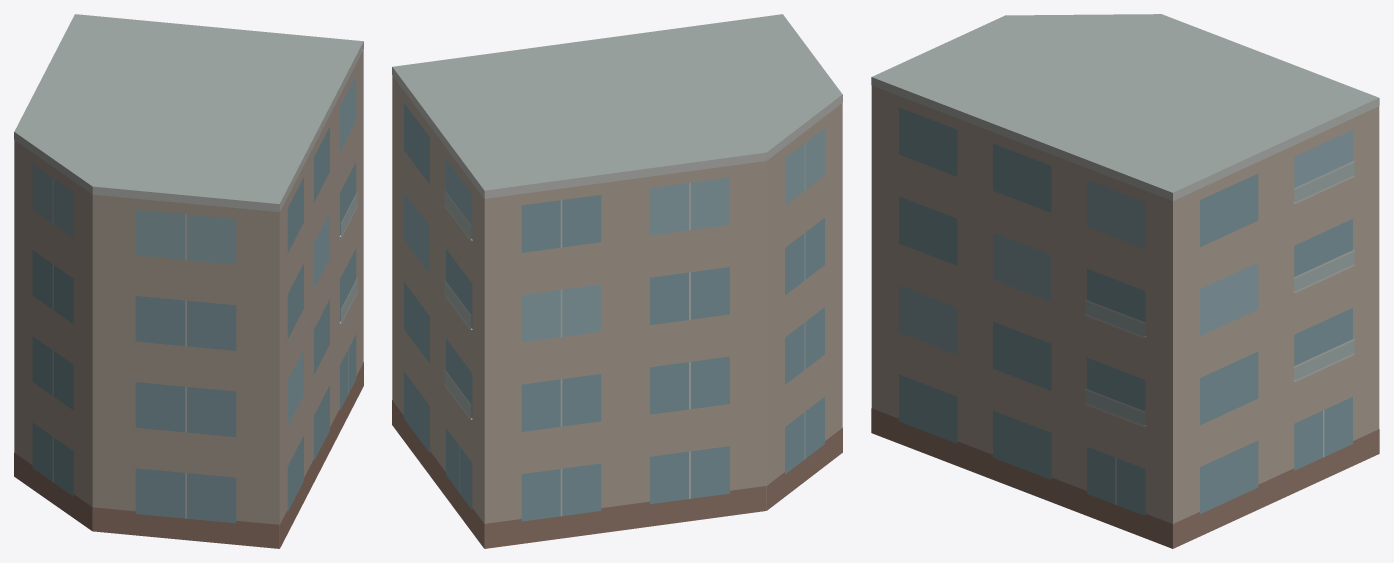
Rendered from survey-upis-32712053.glb.
The picture shows the model from 3 angles, left to right: view 1: azimuth 30°, elevation 25°; view 2: azimuth 150°, elevation 25°; view 3: azimuth 270°, elevation 25°; orthographic projection. The views are drawn at different scales.
Parts seen in each view (by area): view 1: survey-upis-32712053.tmp; view 2: survey-upis-32712053.tmp; view 3: survey-upis-32712053.tmp.
Boxes of the visible parts, x1,y1,x2,y2 form: survey-upis-32712053.tmp: [14, 14, 363, 548]; survey-upis-32712053.tmp: [392, 14, 842, 548]; survey-upis-32712053.tmp: [871, 14, 1379, 548].
Size of the model in its own units: 11.32 by 10.5 by 13.59.
